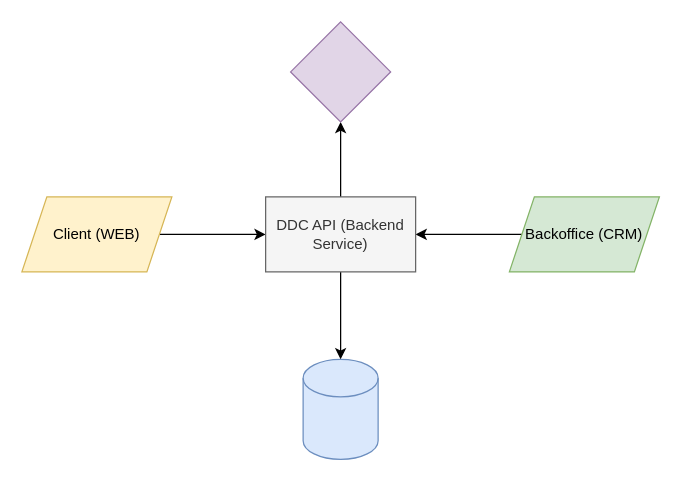
Image size: 681x481. Some labels were removed from this diagram. Each missing label, with the box of its shape:
Database: (302, 358, 378, 459)
Midtrans: (289, 21, 391, 122)
